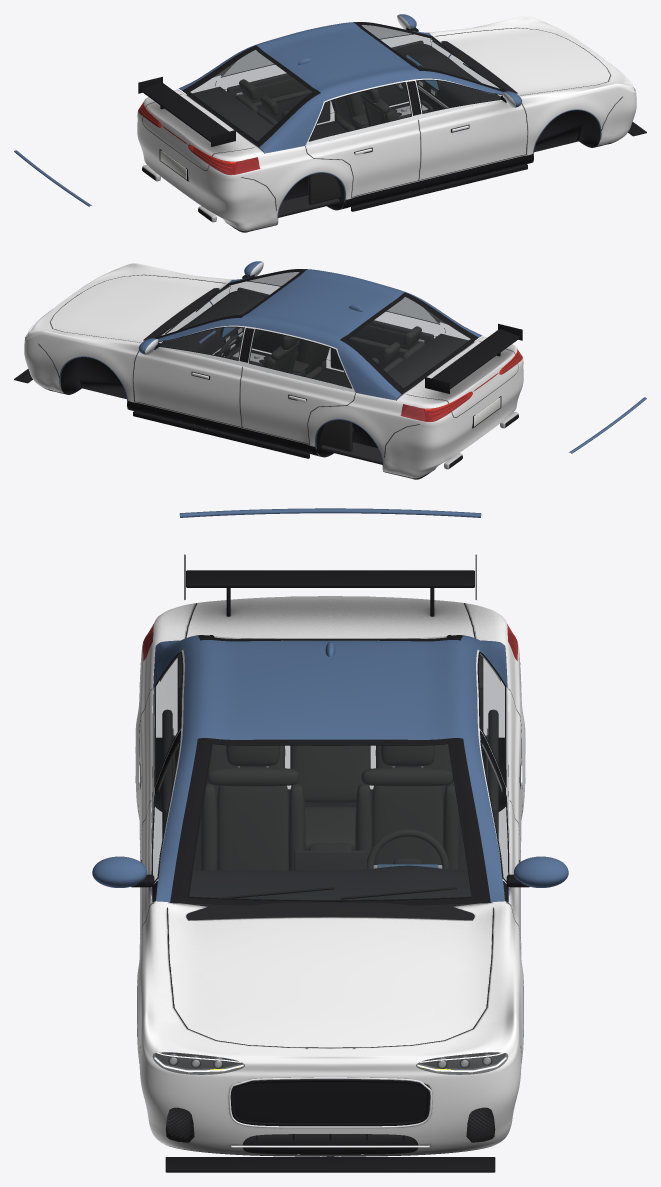
The model's file is sedan.lod0.glb.
The picture shows the model from 3 angles, top to bottom: view 1: azimuth 30°, elevation 25°; view 2: azimuth 150°, elevation 25°; view 3: azimuth 270°, elevation 25°; orthographic projection. The views are drawn at different scales.
Visible parts, largest first — view 1: body_mesh, interior_mesh, aero_wing_mesh, aero_skirts_mesh; view 2: body_mesh, interior_mesh, aero_wing_mesh, aero_skirts_mesh; view 3: body_mesh, interior_mesh, grille_ev_mesh, aero_wing_mesh, aero_splitter_mesh, aero_lip_spoiler_mesh.001.
Boxes of the visible parts, left/top/right/bottom form: body_mesh: left=137, top=14, right=636, bottom=232; interior_mesh: left=186, top=40, right=500, bottom=217; aero_wing_mesh: left=138, top=76, right=235, bottom=146; aero_skirts_mesh: left=324, top=103, right=527, bottom=211; body_mesh: left=24, top=261, right=523, bottom=479; interior_mesh: left=160, top=287, right=474, bottom=464; aero_wing_mesh: left=425, top=323, right=522, bottom=393; aero_skirts_mesh: left=133, top=350, right=336, bottom=458; body_mesh: left=92, top=596, right=568, bottom=1156; interior_mesh: left=158, top=653, right=502, bottom=924; grille_ev_mesh: left=234, top=1082, right=429, bottom=1123; aero_wing_mesh: left=184, top=554, right=476, bottom=616; aero_splitter_mesh: left=165, top=1157, right=495, bottom=1172; aero_lip_spoiler_mesh.001: left=179, top=508, right=481, bottom=517.
Size of the model in its own units: 6.32 by 1.32 by 2.34.
Materials: 31 (1 with a texture image).
